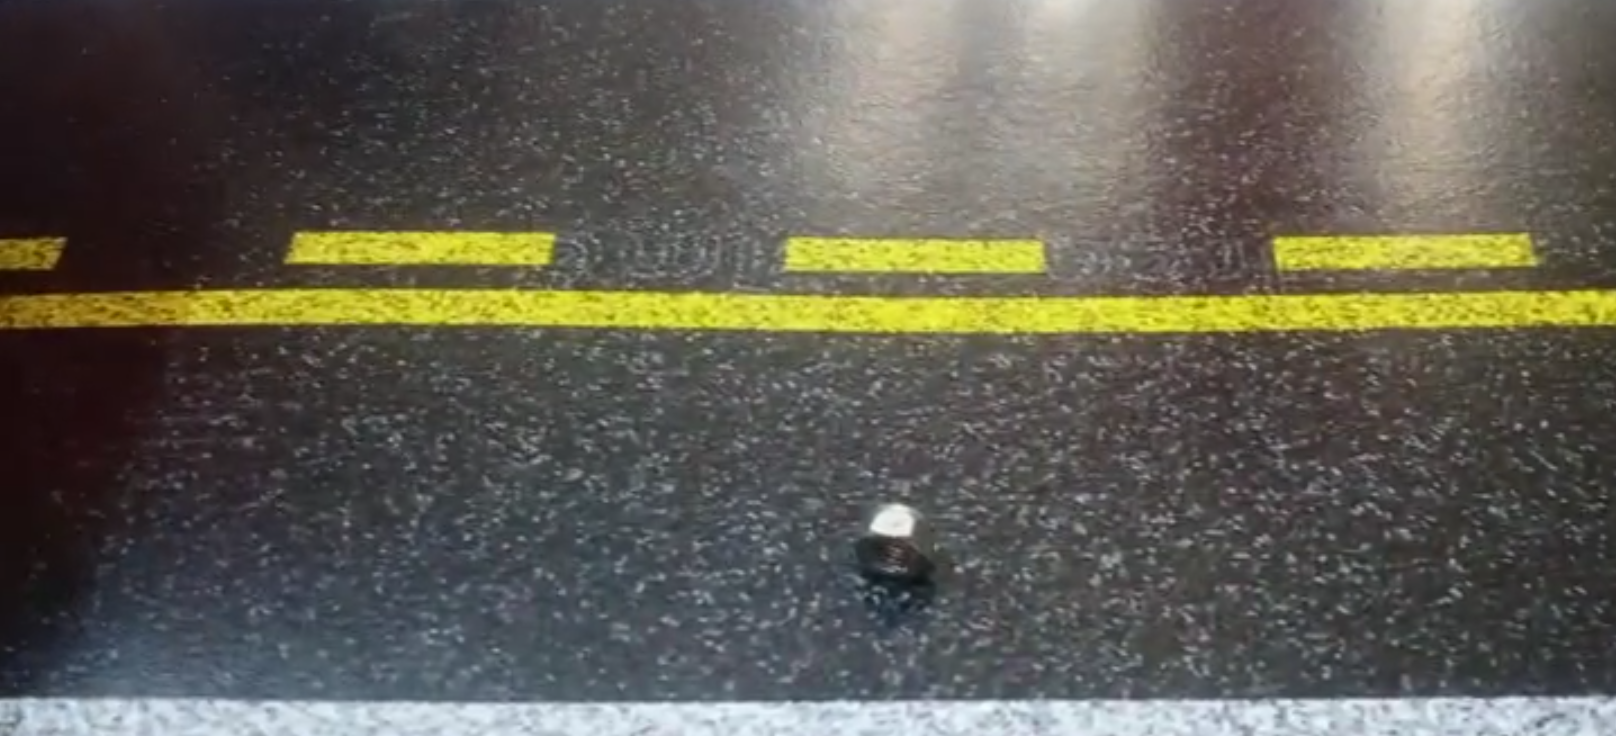metal: (850, 502, 956, 598)
